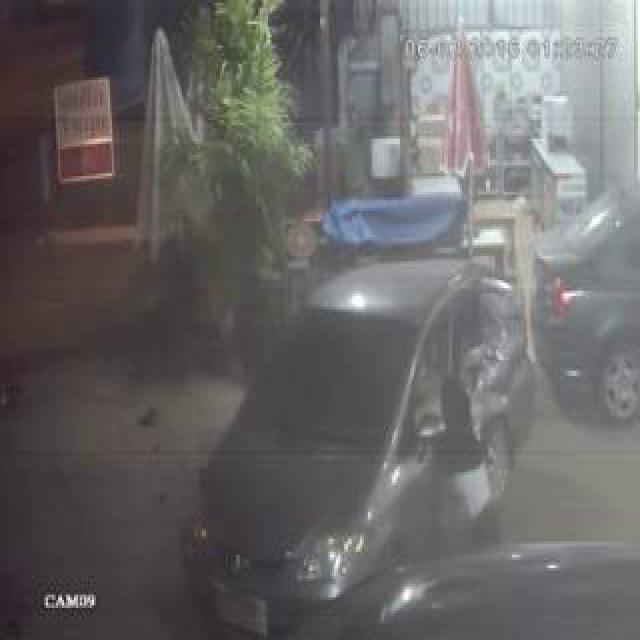road accidents: (280, 1, 608, 640)
